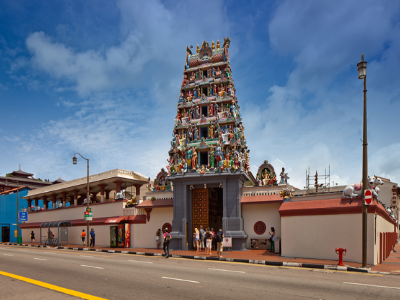gopura: (152, 41, 260, 171)
